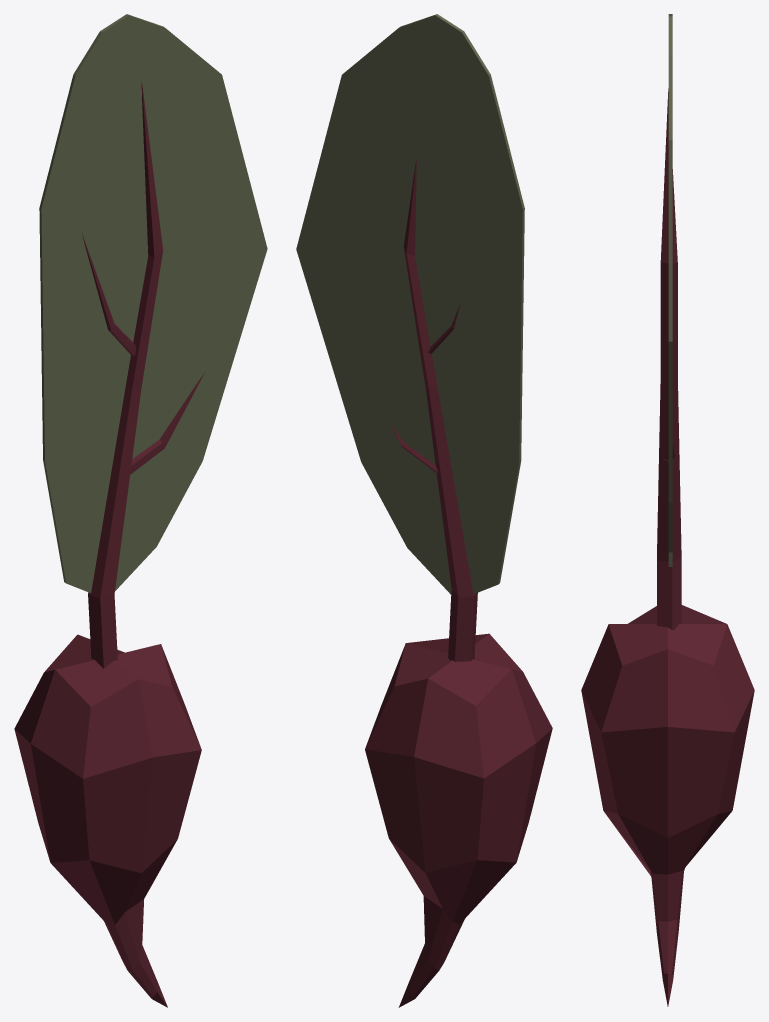
File: beet_2.gltf
The picture shows the model from 3 angles, left to right: view 1: azimuth 30°, elevation 25°; view 2: azimuth 150°, elevation 25°; view 3: azimuth 270°, elevation 25°; orthographic projection. The views are drawn at different scales.
Visible parts, largest first — view 1: beet_2; view 2: beet_2; view 3: beet_2.
Part boxes in pixels (x1,y1,x2,y2): beet_2: [14, 14, 267, 1007]; beet_2: [296, 14, 552, 1007]; beet_2: [581, 14, 754, 1006].
Size of the model in its own units: 0.2131 by 0.8597 by 0.1389.
Materials: 1 (1 with a texture image).
